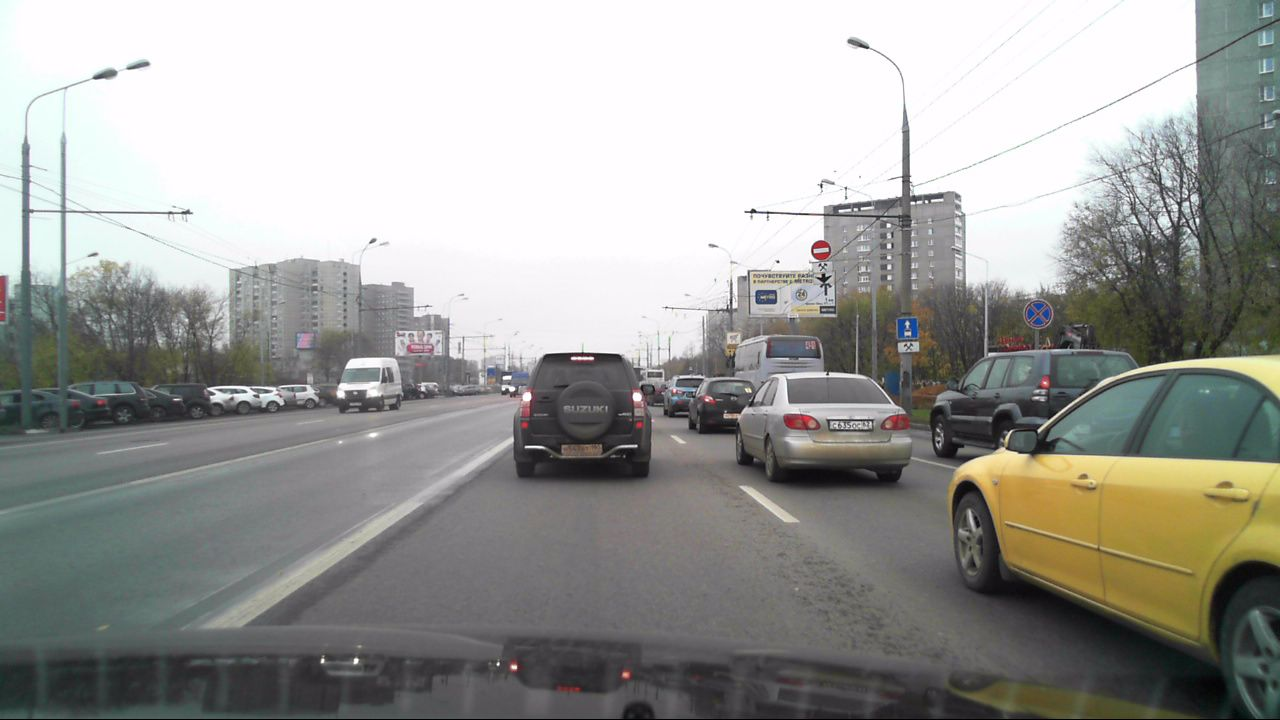No Parking: (1022, 297, 1053, 329)
